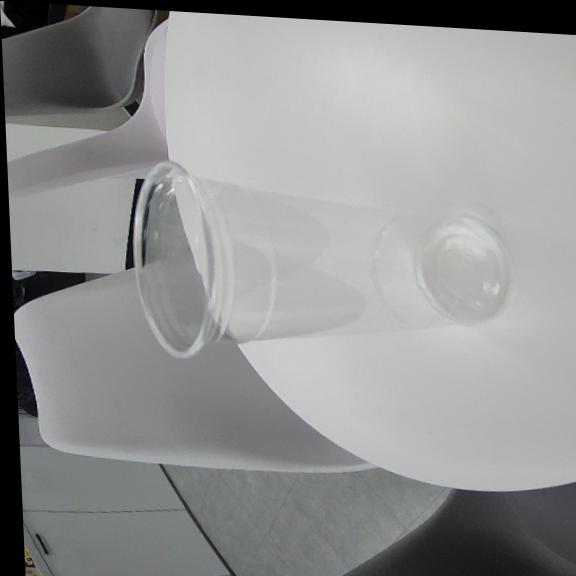Plastik: (135, 160, 507, 357)
